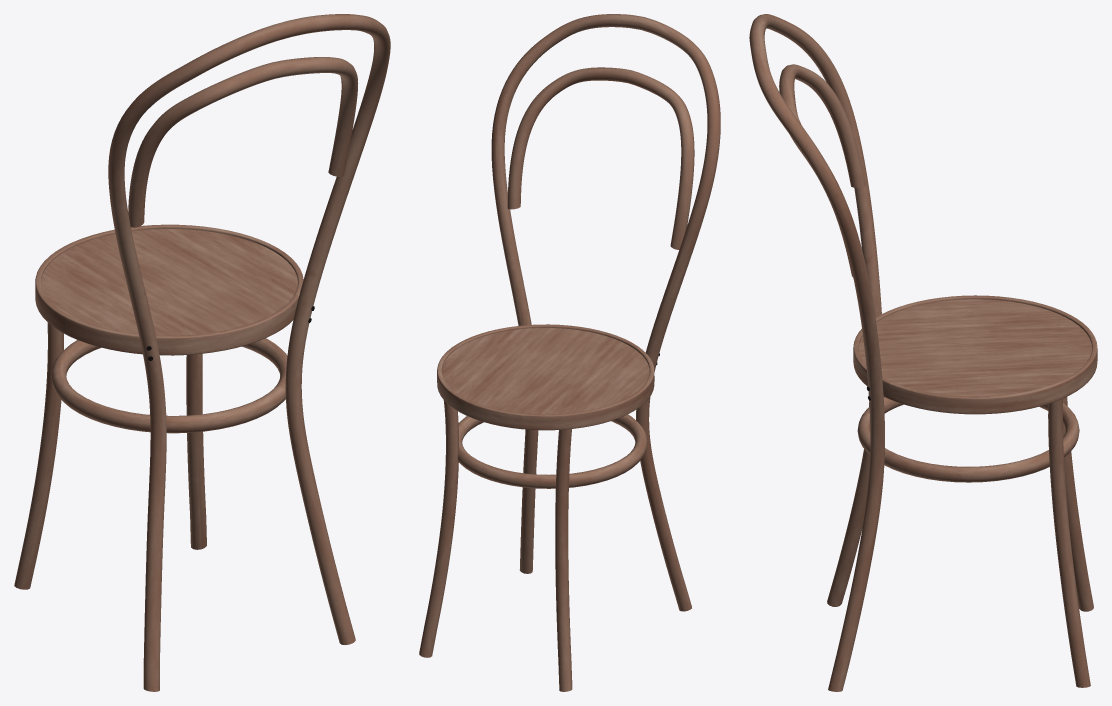
Rendered from chair_wood.glb.
The picture shows the model from 3 angles, left to right: view 1: azimuth 30°, elevation 25°; view 2: azimuth 150°, elevation 25°; view 3: azimuth 270°, elevation 25°; orthographic projection. The views are drawn at different scales.
Parts seen in each view (by area): view 1: Circle.003; view 2: Circle.003; view 3: Circle.003.
Part boxes in pixels (x1,y1,x2,y2): Circle.003: (14, 14, 390, 691); Circle.003: (419, 14, 720, 691); Circle.003: (749, 14, 1097, 691).
Size of the model in its own units: 0.4815 by 1.15 by 0.5883.
2 materials, 1 textured.
